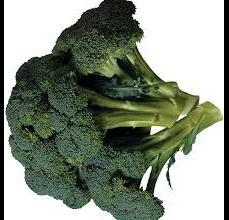broccoli: (5, 0, 222, 219)
